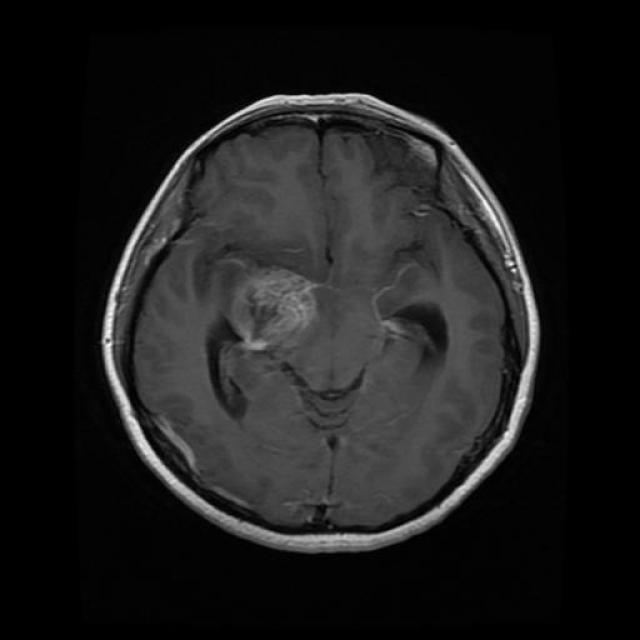brain_tumor: (229, 269, 316, 351)
